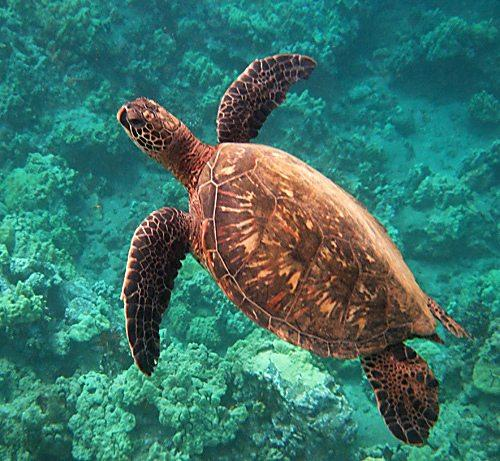turtle: (106, 81, 194, 169)
